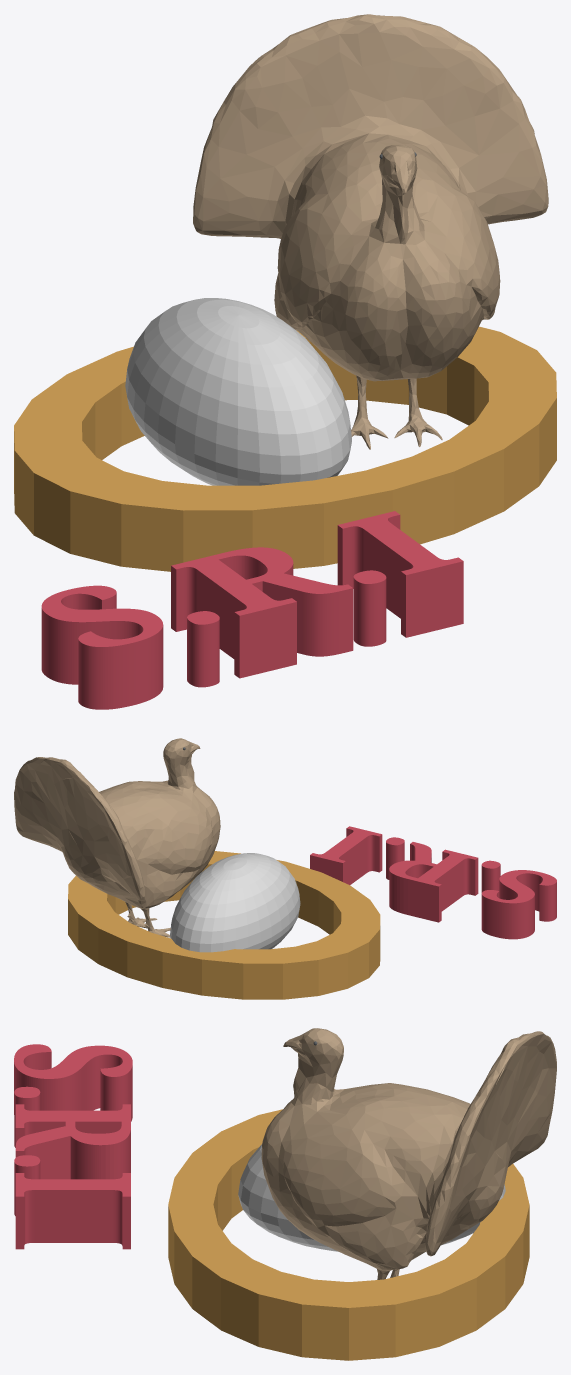
File: Epic Fulffy-Bigery.glb
3 views of the same model, one above another, from view 1: azimuth 30°, elevation 25°; view 2: azimuth 150°, elevation 25°; view 3: azimuth 270°, elevation 25° (orthographic). The views are drawn at different scales.
Parts seen in each view (by area): view 1: Mesh_Mesh_head_geo.001_lambert2SG.001; view 2: Mesh_Mesh_head_geo.001_lambert2SG.001; view 3: Mesh_Mesh_head_geo.001_lambert2SG.001.
Boxes of the visible parts, x1=… form: Mesh_Mesh_head_geo.001_lambert2SG.001: x1=14, y1=14, x2=556, y2=709; Mesh_Mesh_head_geo.001_lambert2SG.001: x1=14, y1=738, x2=556, y2=999; Mesh_Mesh_head_geo.001_lambert2SG.001: x1=14, y1=1028, x2=556, y2=1360.
Size of the model in its own units: 117 by 54.91 by 93.18.
